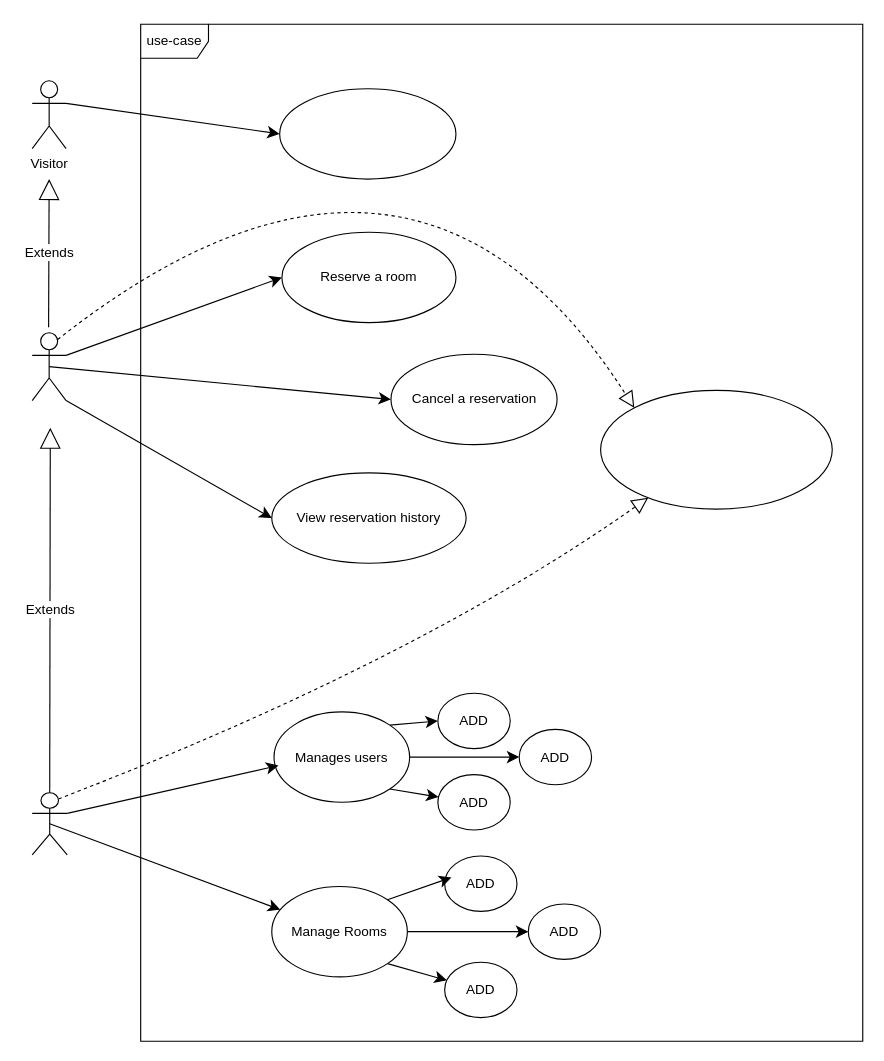
The diagram is 884 pixels wide and 1061 high, and some of its shapes have lost their labels. Each missing label, with the box of its shape:
Admin: (31, 792, 67, 855)
Employee: (31, 332, 66, 401)
LOGIN(Google OAuth): (599, 389, 832, 509)
View availability: (279, 88, 456, 179)
